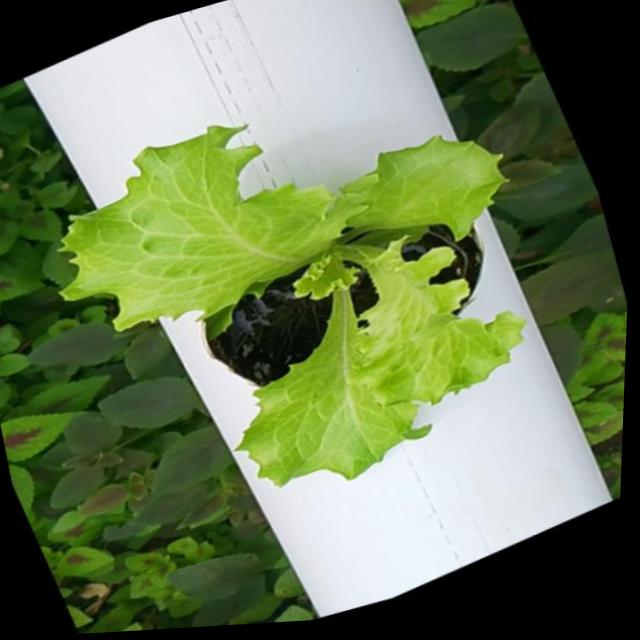Baby: (85, 120, 546, 476)
